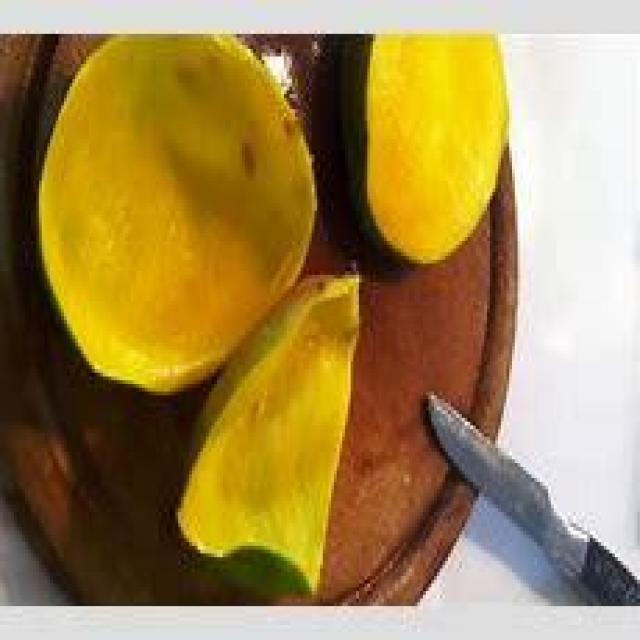Wet: (36, 34, 507, 602)
